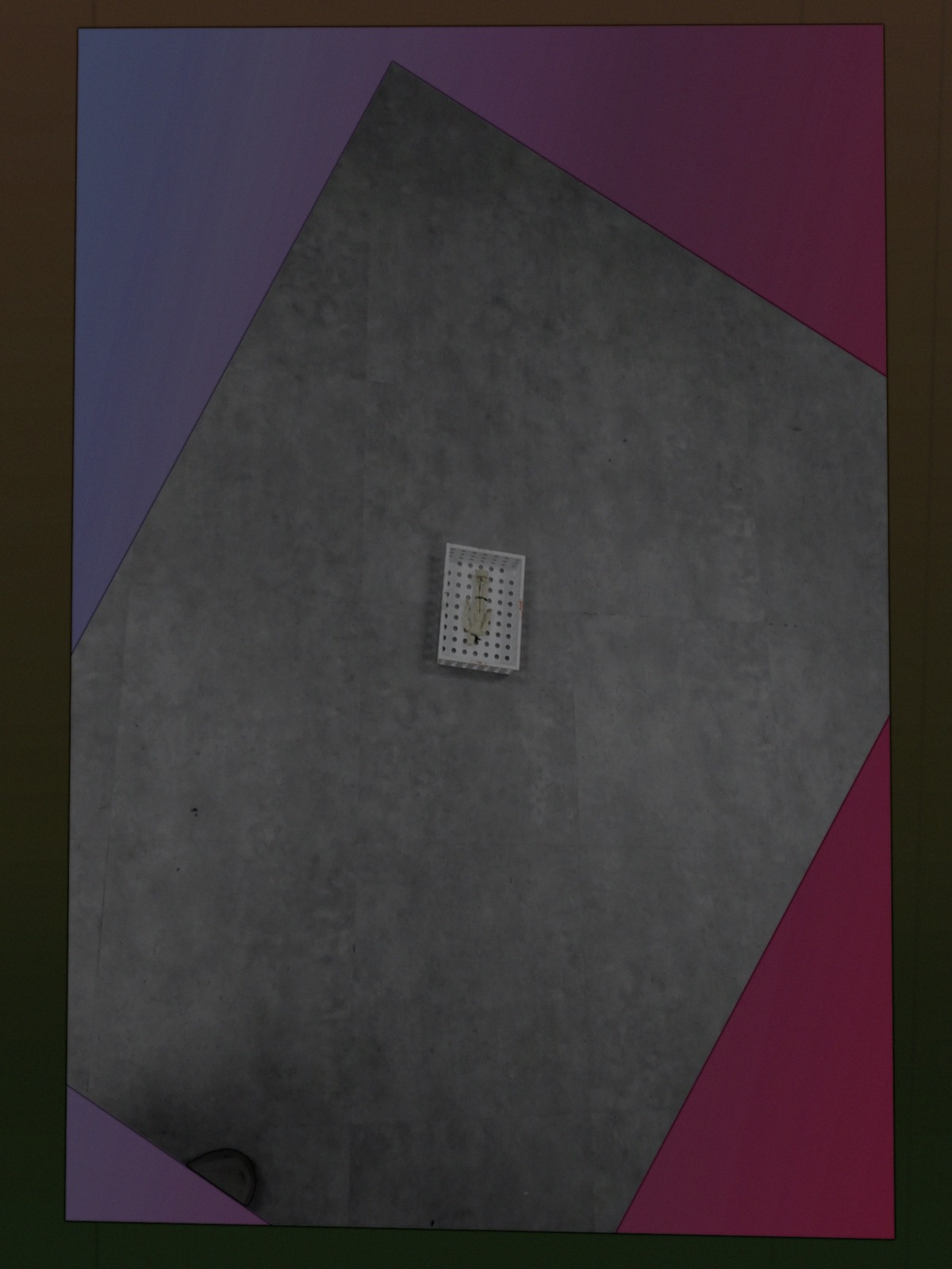basket: (432, 542, 529, 681)
mannequin: (463, 569, 495, 650)
